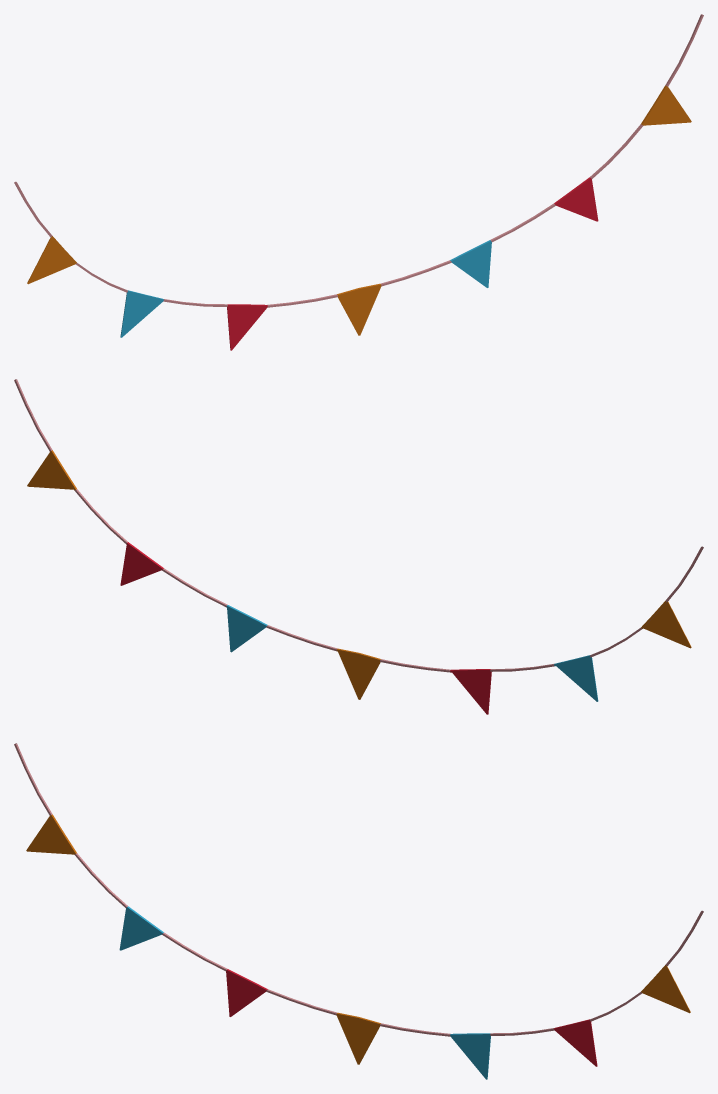
The model's file is vimplar.glb.
3 renders of one model, top to bottom at view 1: azimuth 30°, elevation 25°; view 2: azimuth 150°, elevation 25°; view 3: azimuth 330°, elevation 25°, orthographic.
Visible parts, largest first — view 1: mesh_id6, mesh_id7, mesh_id8, mesh_id5; view 2: mesh_id6, mesh_id7, mesh_id8, mesh_id5; view 3: mesh_id6, mesh_id8, mesh_id7, mesh_id5.
Boxes of the visible parts, box(x1,y1,x2,y2) form: mesh_id6: box(27, 85, 691, 335); mesh_id7: box(227, 177, 598, 350); mesh_id8: box(120, 240, 491, 337); mesh_id5: box(14, 14, 703, 307); mesh_id6: box(27, 450, 691, 699); mesh_id7: box(120, 542, 491, 714); mesh_id8: box(226, 605, 598, 701); mesh_id5: box(14, 379, 703, 672); mesh_id6: box(26, 814, 690, 1064); mesh_id8: box(119, 906, 490, 1079); mesh_id7: box(226, 969, 597, 1066); mesh_id5: box(14, 743, 703, 1036).
Size of the model in its own units: 0.512 by 0.1682 by 0.00158.
4 materials, 4 textured.
